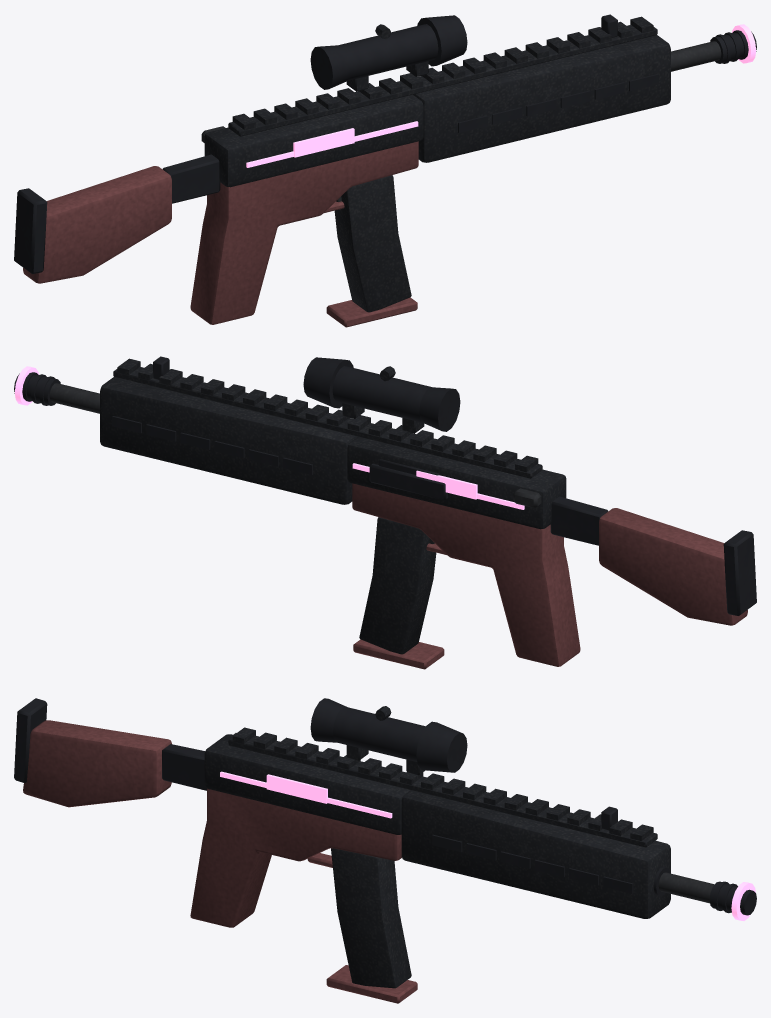
Rendered from rifle_r5.fbx.
3 renders of one model, top to bottom at view 1: azimuth 30°, elevation 25°; view 2: azimuth 150°, elevation 25°; view 3: azimuth 330°, elevation 25°, orthographic.
Visible parts, largest first — view 1: Body, Magazine, Glow; view 2: Body, Magazine, Bolt, Glow; view 3: Body, Magazine, Glow.
Boxes of the visible parts, box(x1,y1,x2,y2) form: Body: box(14, 14, 756, 324); Magazine: box(326, 175, 417, 327); Glow: box(246, 24, 756, 167); Body: box(14, 356, 756, 666); Magazine: box(353, 517, 444, 669); Bolt: box(369, 459, 541, 508); Glow: box(14, 366, 524, 509); Body: box(14, 698, 756, 927); Magazine: box(326, 848, 417, 1003); Glow: box(220, 771, 755, 920).
Size of the model in its own units: 8.53 by 3.17 by 0.635.
Materials: 2 (1 with a texture image).
